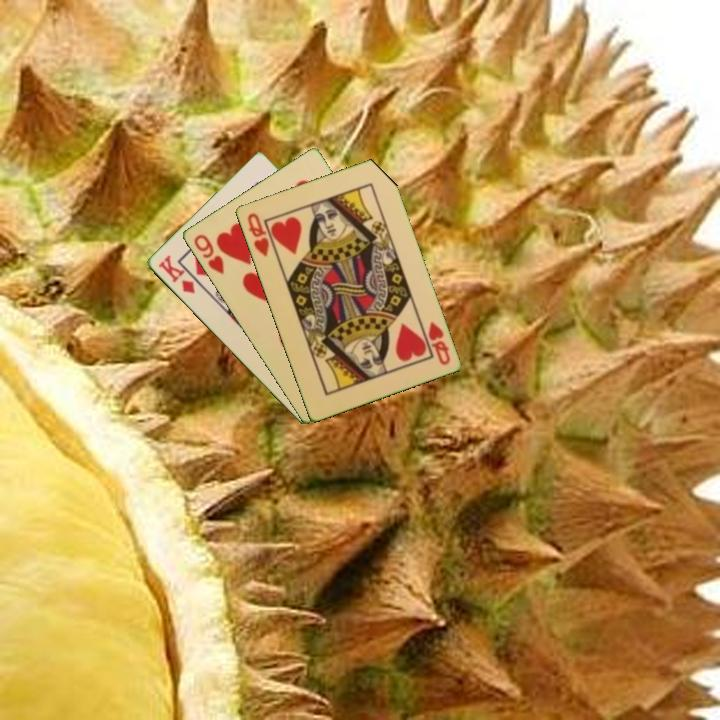9h: (190, 231, 227, 278)
Kd: (154, 251, 198, 297)
Qh: (243, 209, 272, 260), (424, 318, 453, 368)
